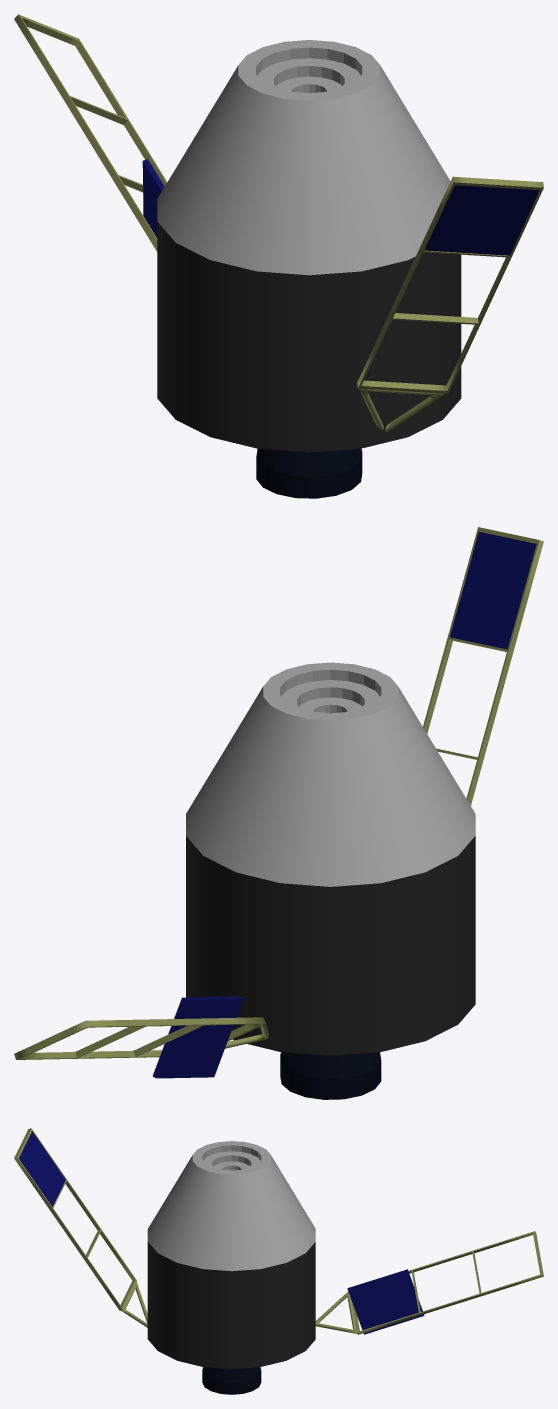
The picture shows the model from 3 angles, top to bottom: view 1: azimuth 30°, elevation 25°; view 2: azimuth 150°, elevation 25°; view 3: azimuth 270°, elevation 25°; orthographic projection. The views are drawn at different scales.
Parts seen in each view (by area): view 1: Cylinder001, Cone001, Loft005, Box005, Line002; view 2: Cylinder001, Cone001, Box005, Loft005, Line002; view 3: Cylinder001, Cone001, Box005, Loft005, Line002.
Boxes of the visible parts, x1,y1,x2,y2 form: Cylinder001: (157, 222, 461, 452); Cone001: (157, 40, 450, 275); Loft005: (14, 14, 543, 432); Box005: (142, 159, 539, 255); Line002: (256, 448, 362, 498); Cylinder001: (186, 836, 475, 1055); Cone001: (186, 662, 475, 886); Box005: (152, 532, 536, 1078); Loft005: (14, 527, 543, 1059); Line002: (280, 1052, 381, 1099); Cylinder001: (147, 1241, 315, 1368); Cone001: (147, 1141, 315, 1271); Box005: (19, 1131, 424, 1334); Loft005: (14, 1128, 543, 1334); Line002: (202, 1367, 261, 1394).
Bounding box in the file's own units: 23.62 × 37.29 × 73.39.
